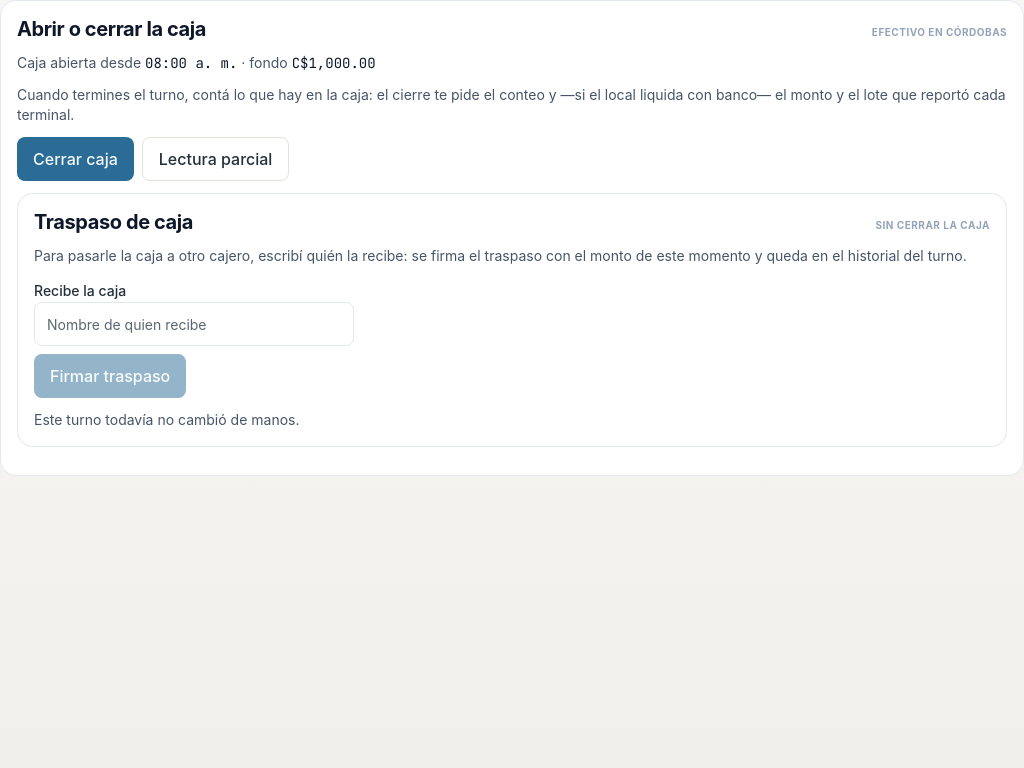
it: CashTurnSection › quien audita ve el cuadre aunque el local tenga el arqueo ciego prendido
Check: the text "Caja abierta desde 08:00 a. m. · fondo C$1,000.00" is shown, box x1=17 y1=54 x2=376 y2=72
What coordinates should you click on to do the following:
click the button "Cerrar caja"
I would click on:
 (75, 159)
Its box is x1=17 y1=137 x2=134 y2=181.
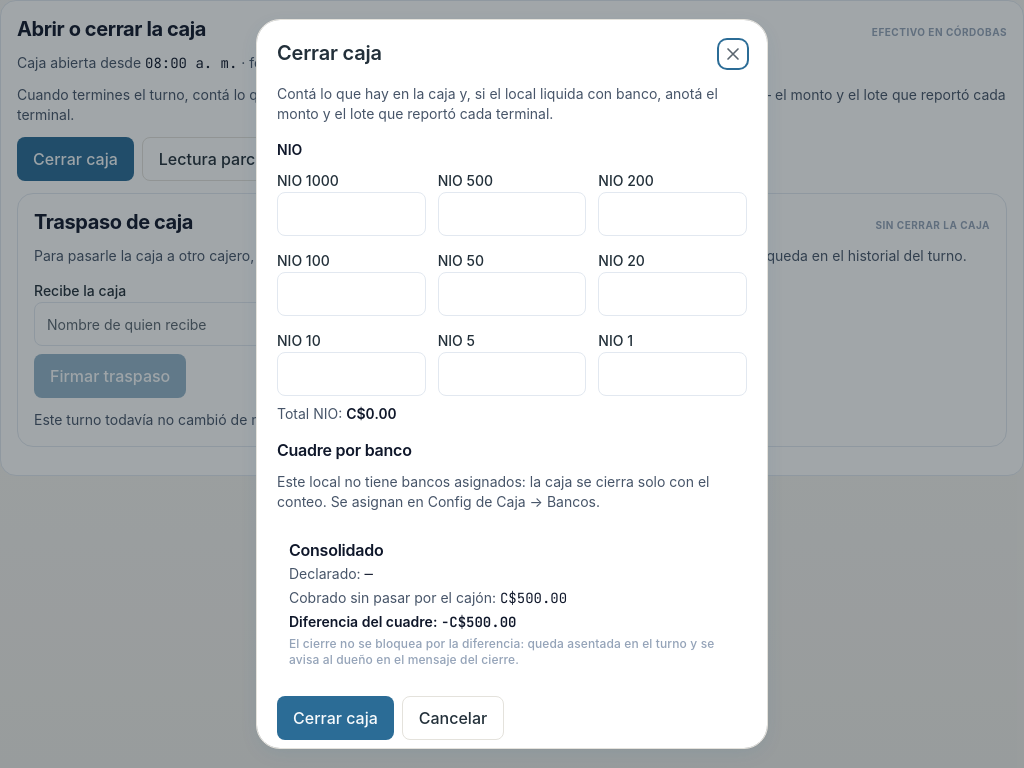
Check: the text "Cobrado sin pasar por el cajón: C$500.00" is shown, box x1=289 y1=589 x2=567 y2=607
